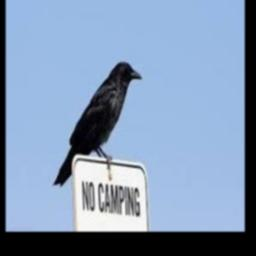Crow: (52, 61, 142, 186)
